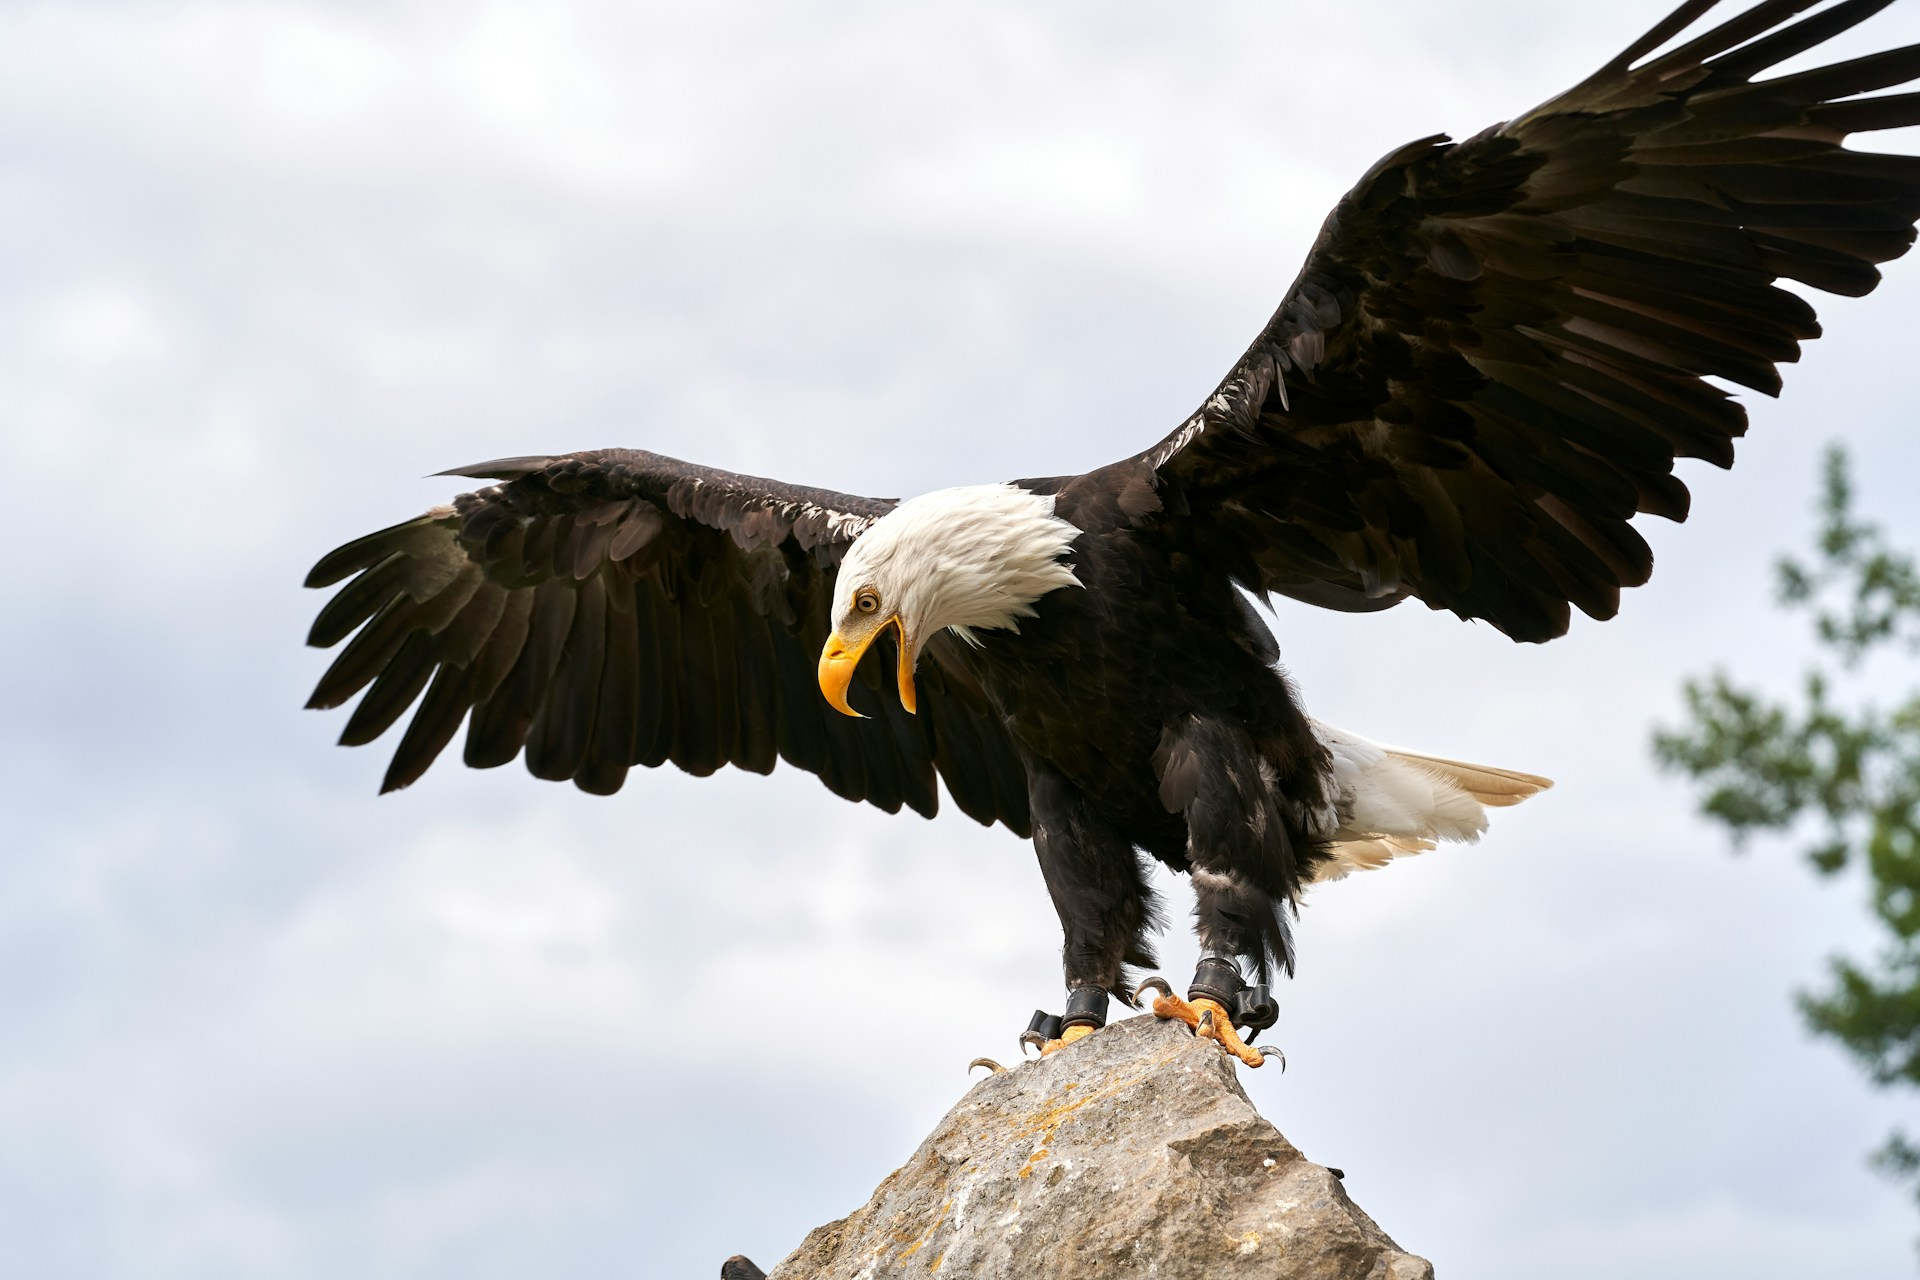eagle: (249, 1, 1920, 1079)
